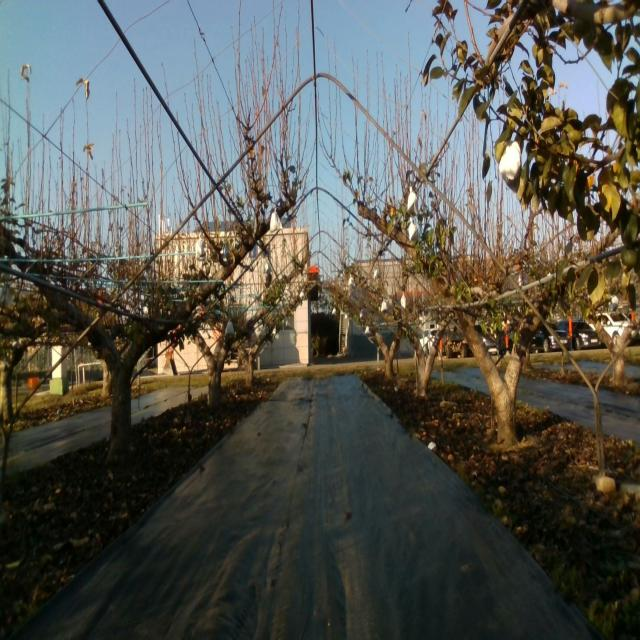pearbags: (497, 140, 523, 195), (407, 186, 419, 217), (195, 234, 207, 260), (270, 209, 283, 231), (408, 217, 419, 242)
